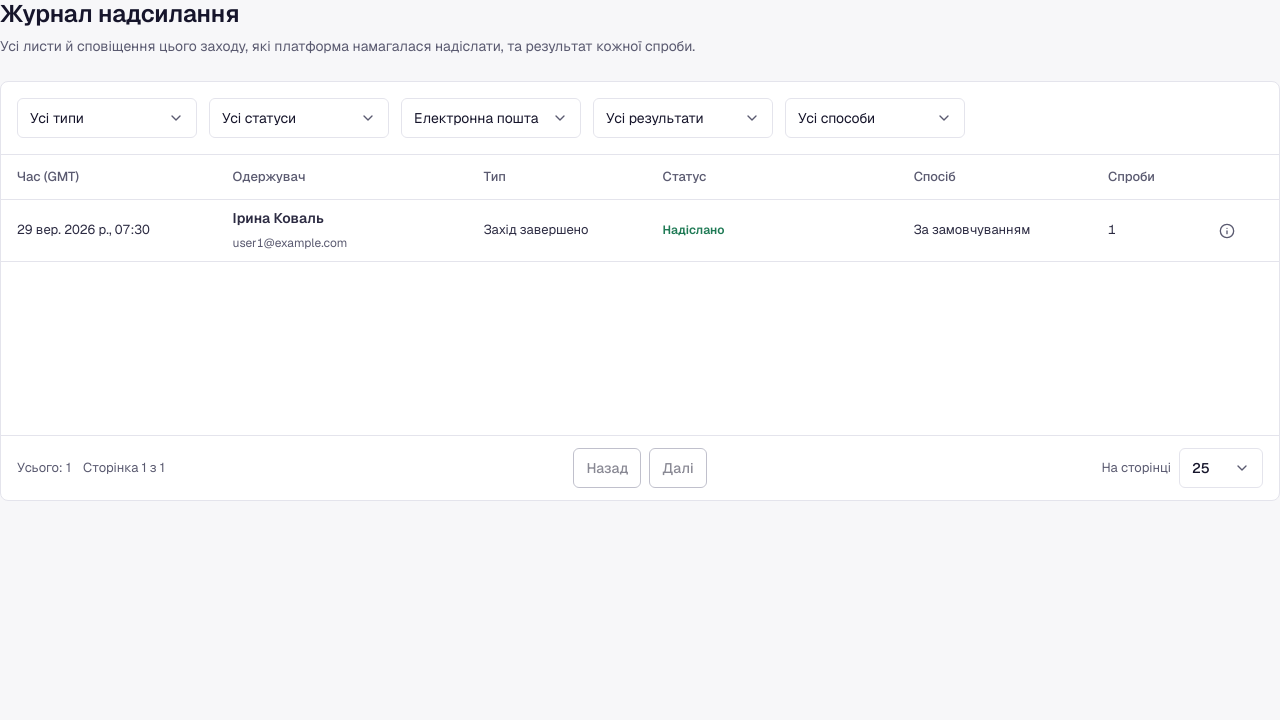
Test: Журнал надсилання › shows the recipient once at the top as a participant link, not in the channel cards
Click the button named "Деталі надсилання: Захід завершено": click(1227, 231) [1211,215,1243,247]
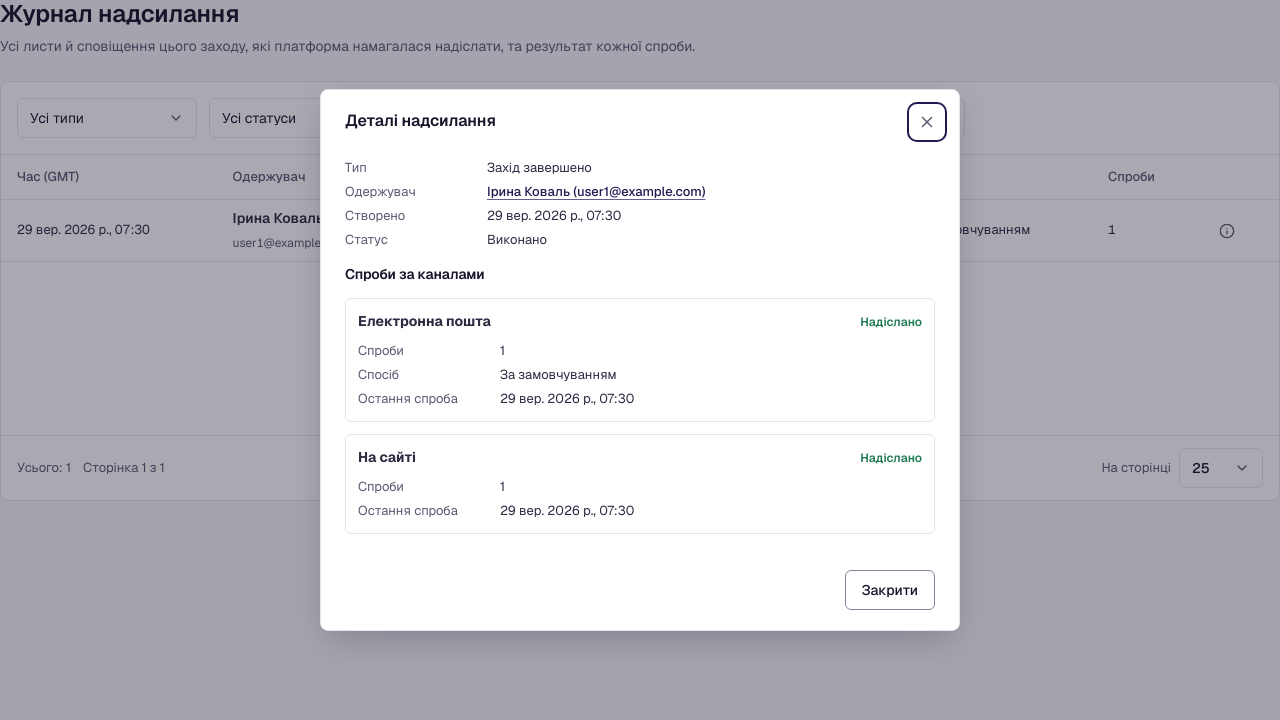
Check: the text "Одержувач" is shown once, box [345,183,416,200]
Check: the number of links "Ірина Коваль (user1@example.com)" is 1, box [487,183,705,200]
